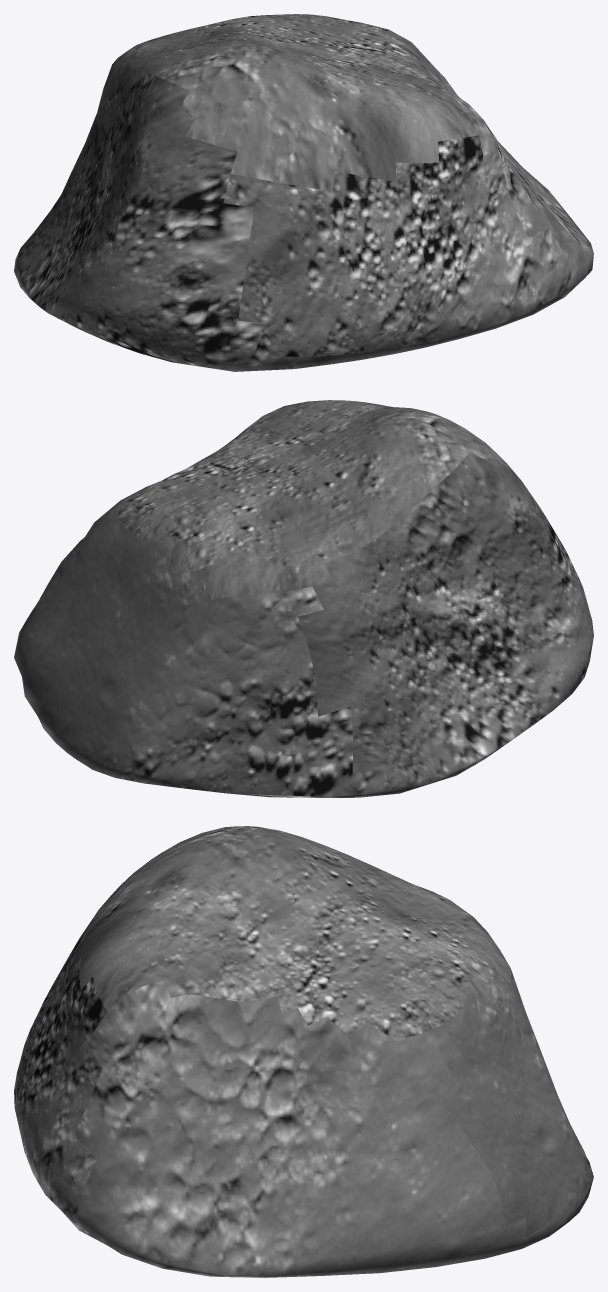
File: Rock14.obj
3 renders of one model, top to bottom at view 1: azimuth 30°, elevation 25°; view 2: azimuth 150°, elevation 25°; view 3: azimuth 270°, elevation 25°, orthographic. The views are drawn at different scales.
Parts seen in each view (by area): view 1: Rocks2; view 2: Rocks2; view 3: Rocks2.
Part boxes in pixels (bbox=[...]): Rocks2: bbox=[14, 14, 593, 371]; Rocks2: bbox=[14, 400, 593, 797]; Rocks2: bbox=[14, 826, 593, 1277].
Bounding box in the file's own units: 0.7659 × 0.4047 × 0.7087.
Materials: 1 (1 with a texture image).
